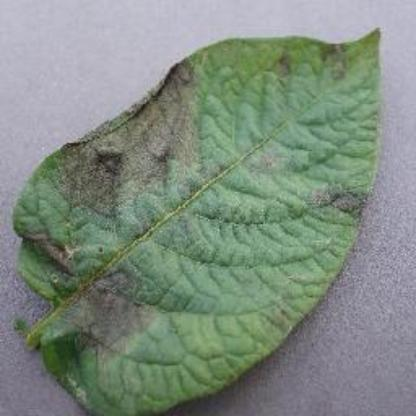Late-Blight: (16, 12, 396, 406)
